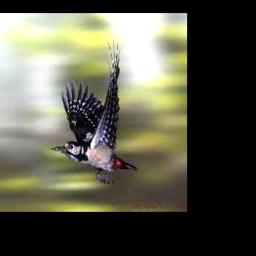Woodpecker: (51, 39, 138, 183)
